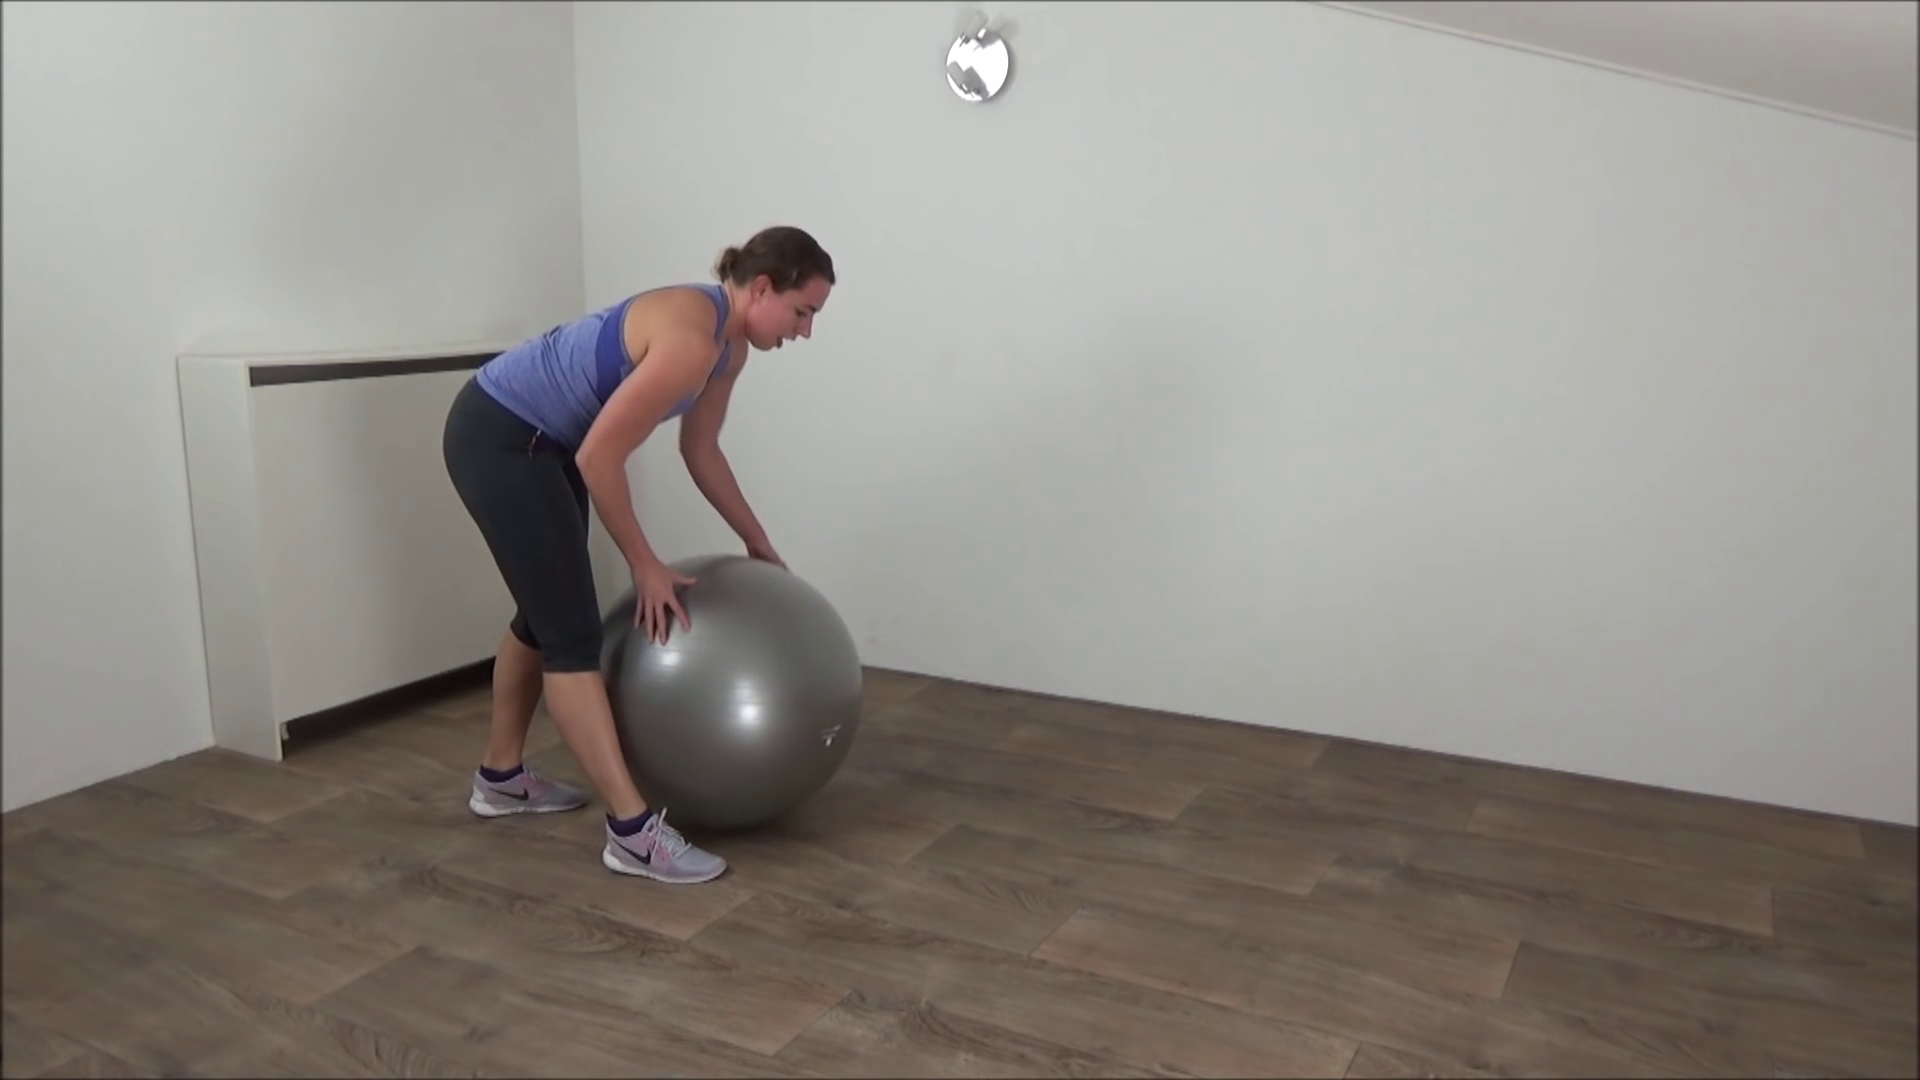yogaball: (582, 546, 878, 860)
